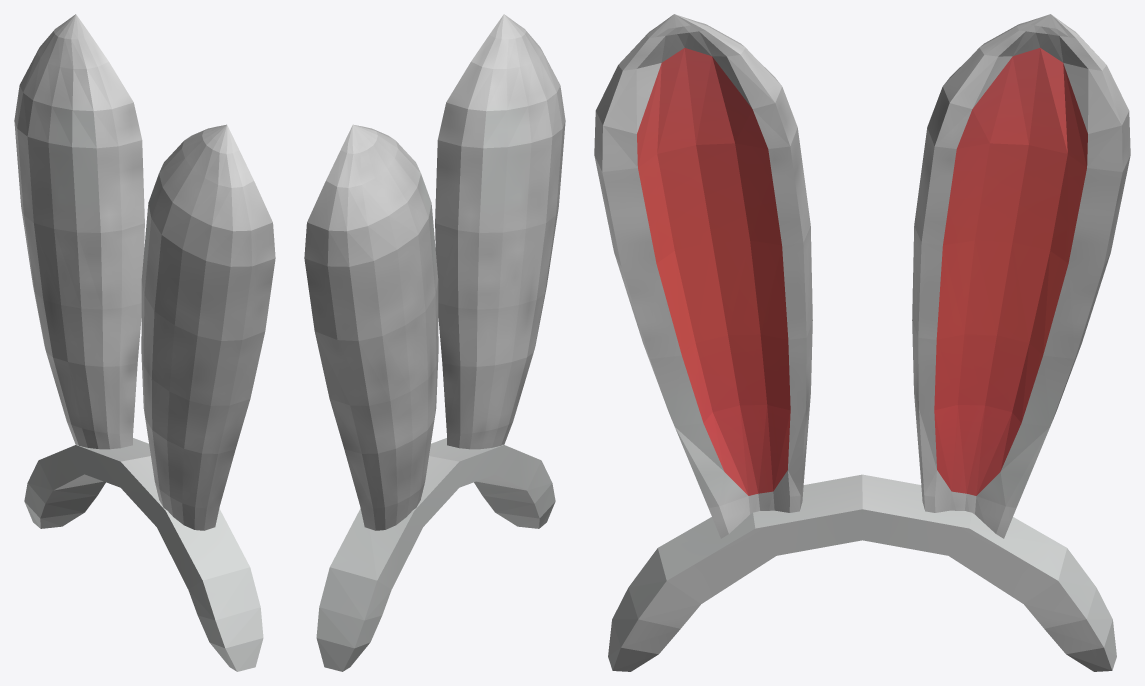
File: WHITE BUNNY EARS.fbx
3 views of the same model, side by side, from view 1: azimuth 30°, elevation 25°; view 2: azimuth 150°, elevation 25°; view 3: azimuth 270°, elevation 25° (orthographic). The views are drawn at different scales.
Visible parts, largest first — view 1: WHITE_BUNNY_EARS; view 2: WHITE_BUNNY_EARS; view 3: WHITE_BUNNY_EARS.
Part boxes in pixels (x1,y1,x2,y2): WHITE_BUNNY_EARS: (14,14,275,671); WHITE_BUNNY_EARS: (304,14,565,671); WHITE_BUNNY_EARS: (594,14,1130,671).
Size of the model in its own units: 4.95 by 32.11 by 23.81.
